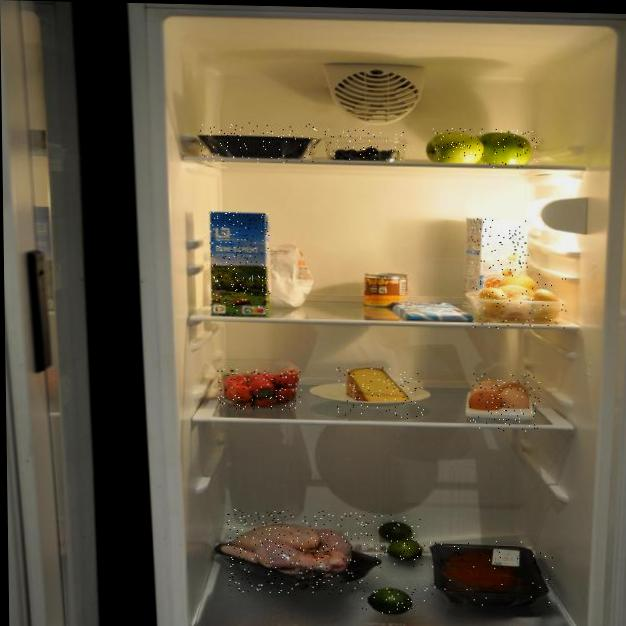apple: (479, 129, 539, 170), (432, 128, 479, 164)
cheese: (336, 366, 424, 419)
chicken: (226, 509, 380, 595)
eggs: (471, 269, 569, 331), (469, 373, 540, 432)
lime: (368, 514, 422, 569), (359, 586, 419, 615)
meat: (423, 538, 554, 608), (199, 121, 317, 164)
milk: (209, 212, 271, 317), (471, 218, 530, 319)
olive: (324, 129, 405, 161)
tomatoes: (217, 369, 302, 411)
